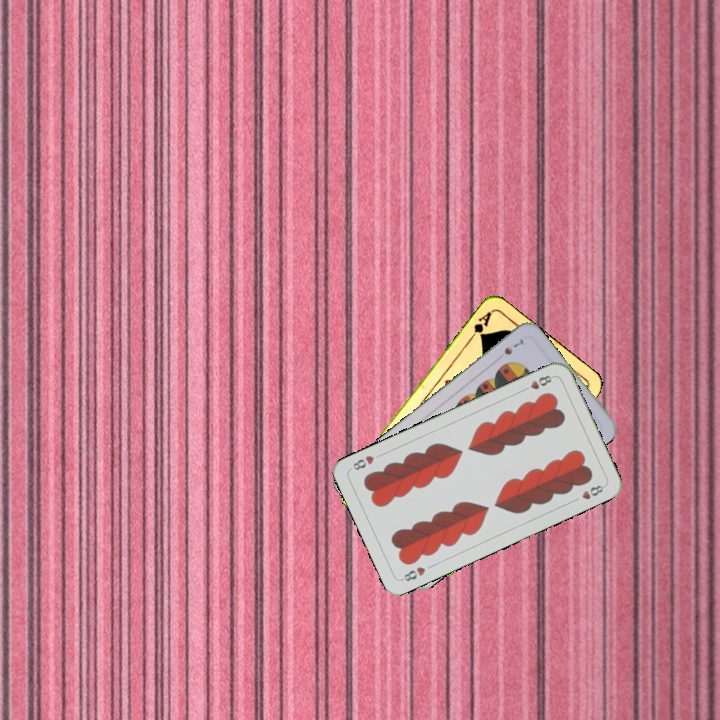GA: (465, 307, 494, 343)
H8: (518, 371, 556, 394), (397, 563, 428, 584)
S7: (500, 334, 526, 358)
